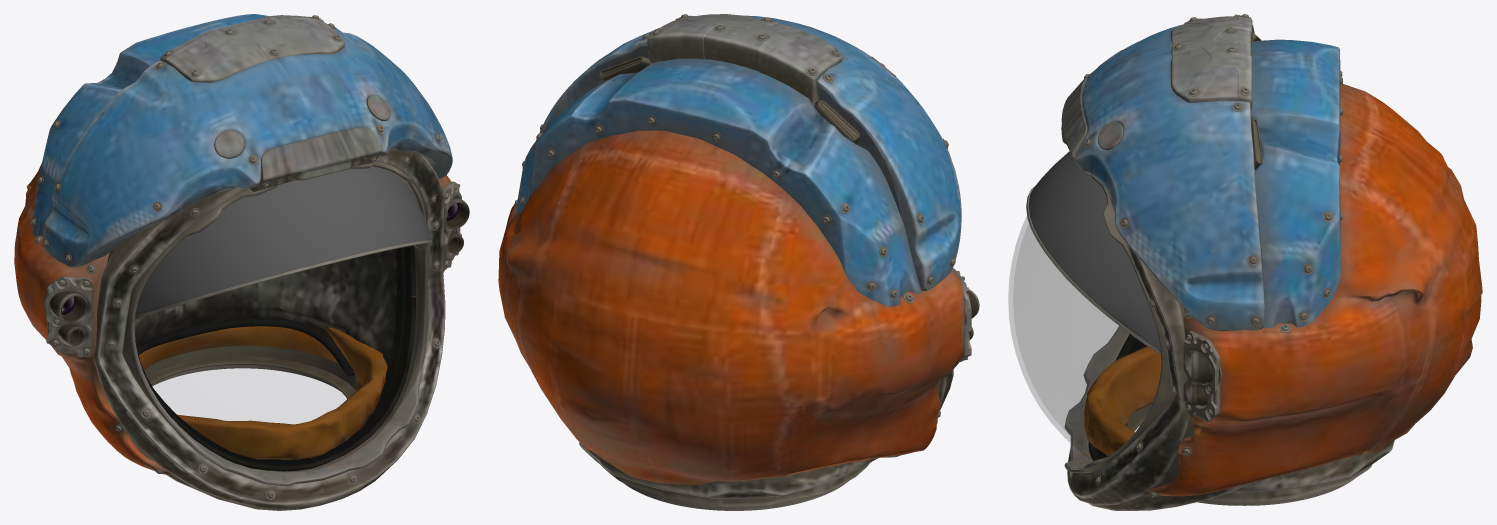
Rendered from helmet.fbx.
3 views of the same model, side by side, from view 1: azimuth 30°, elevation 25°; view 2: azimuth 150°, elevation 25°; view 3: azimuth 270°, elevation 25° (orthographic). The views are drawn at different scales.
Visible parts, largest first — view 1: helmet_base.001; view 2: helmet_base.001; view 3: helmet_base.001.
Boxes of the visible parts, x1,y1,x2,y2 form: helmet_base.001: (14,14,469,510); helmet_base.001: (498,14,979,510); helmet_base.001: (1008,14,1482,510).
Size of the model in its own units: 4081 by 4007 by 3861.
Materials: 3 (3 with a texture image).
